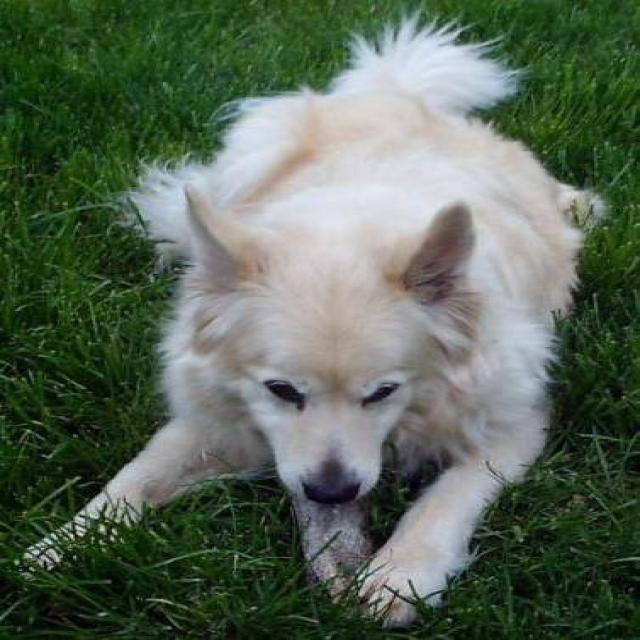dog: (12, 8, 609, 630)
